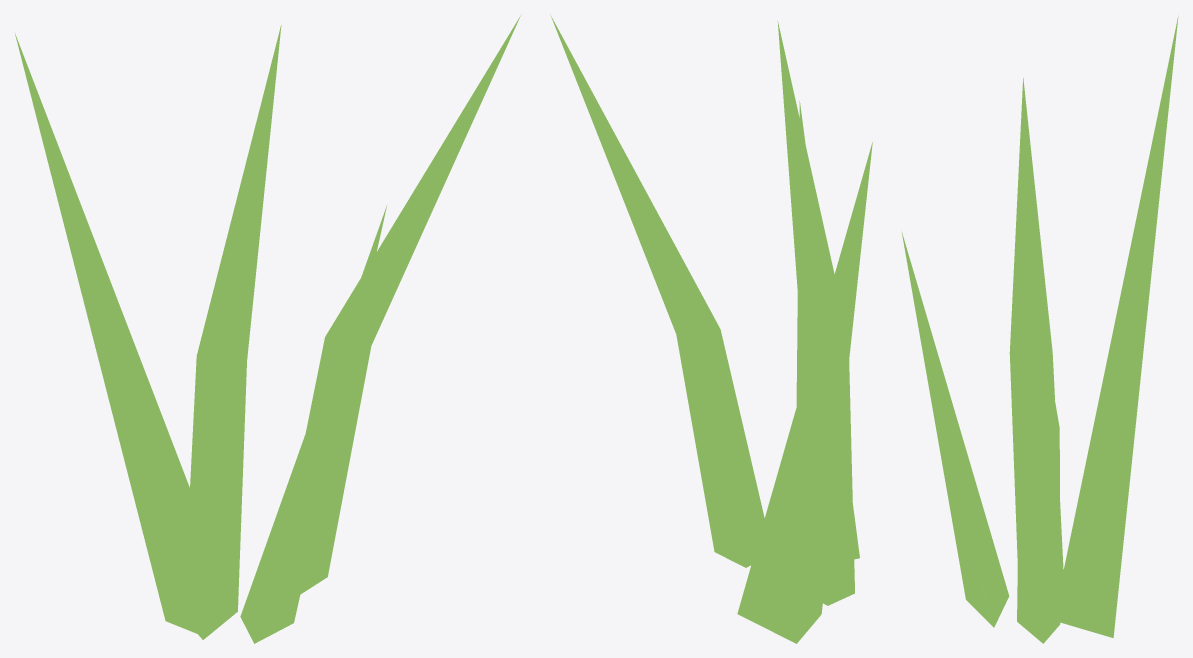
File: Grass3D_a_04.fbx
3 renders of one model, left to right at view 1: azimuth 30°, elevation 25°; view 2: azimuth 150°, elevation 25°; view 3: azimuth 270°, elevation 25°, orthographic. The views are drawn at different scales.
Parts seen in each view (by area): view 1: Grass3D_a_04; view 2: Grass3D_a_04; view 3: Grass3D_a_04.
Boxes of the visible parts, <box> form: Grass3D_a_04: <box>15,14,521,643</box>; Grass3D_a_04: <box>550,14,872,643</box>; Grass3D_a_04: <box>901,16,1178,643</box>.
Size of the model in its own units: 0.4096 by 0.5658 by 0.2452.
